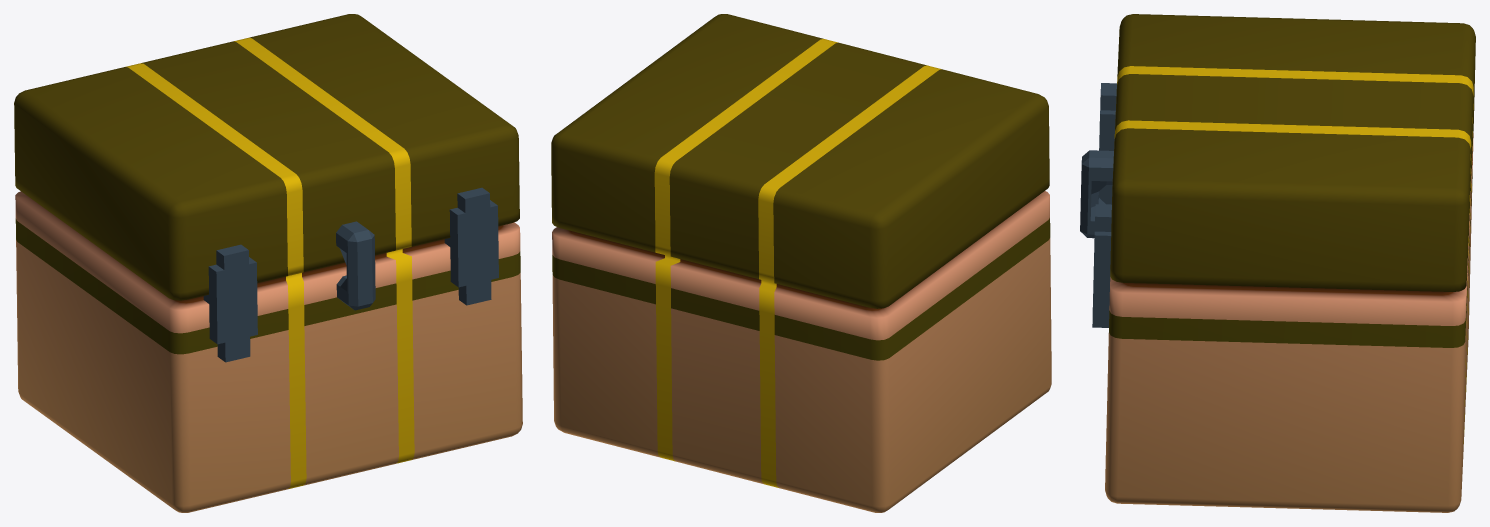
The model's file is коробка.fbx.
The picture shows the model from 3 angles, left to right: view 1: azimuth 30°, elevation 25°; view 2: azimuth 150°, elevation 25°; view 3: azimuth 270°, elevation 25°; orthographic projection. The views are drawn at different scales.
Parts seen in each view (by area): view 1: Cube.006; view 2: Cube.006; view 3: Cube.006.
Boxes of the visible parts, x1=… form: Cube.006: x1=14, y1=14, x2=522, y2=512; Cube.006: x1=551, y1=14, x2=1051, y2=512; Cube.006: x1=1080, y1=14, x2=1475, y2=512.
Size of the model in its own units: 239 by 205 by 222.
